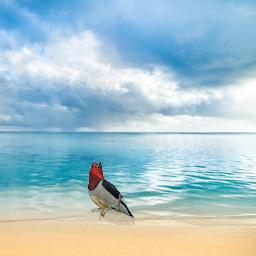Woodpecker: (85, 158, 138, 225)
